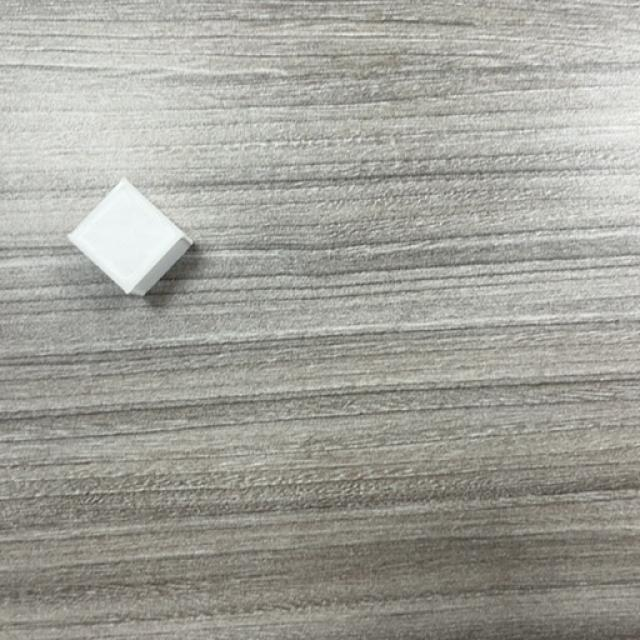Blanco: (68, 180, 194, 298)
